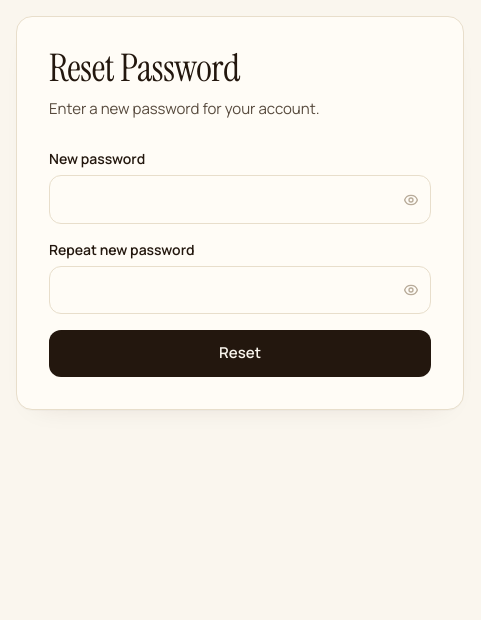
ResetPassword page › shows success message when password reset succeeds
Type "newpass123" into the password field labelled "New password" at (240, 200), box [49,175,431,224]
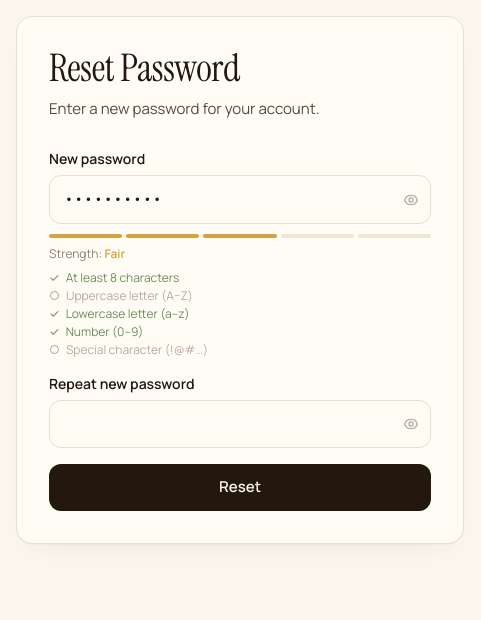
Type "newpass123" into the password field labelled "Repeat new password" at (240, 424), box [49,400,431,448]
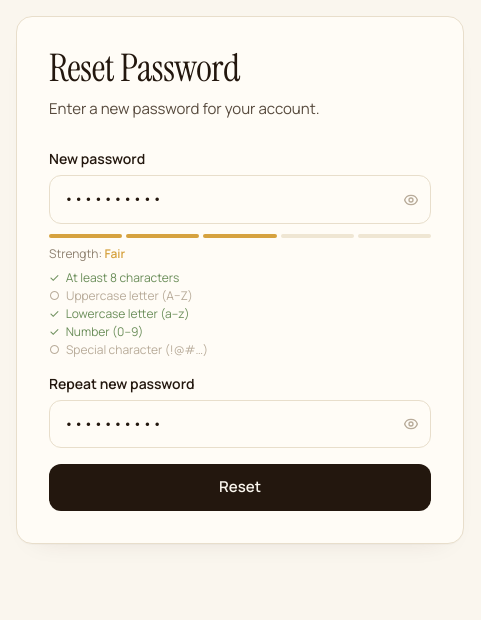
Submit the form named "reset", box [49,149,431,511]
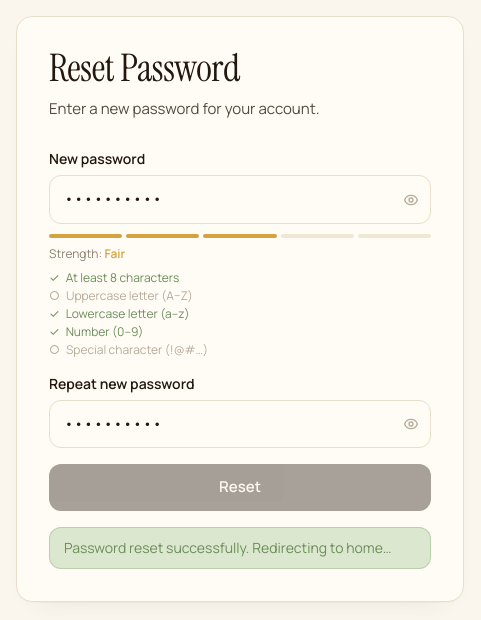
Now the text "Password reset successfully. Redirecting to home…" is shown, box [49,527,431,569]
